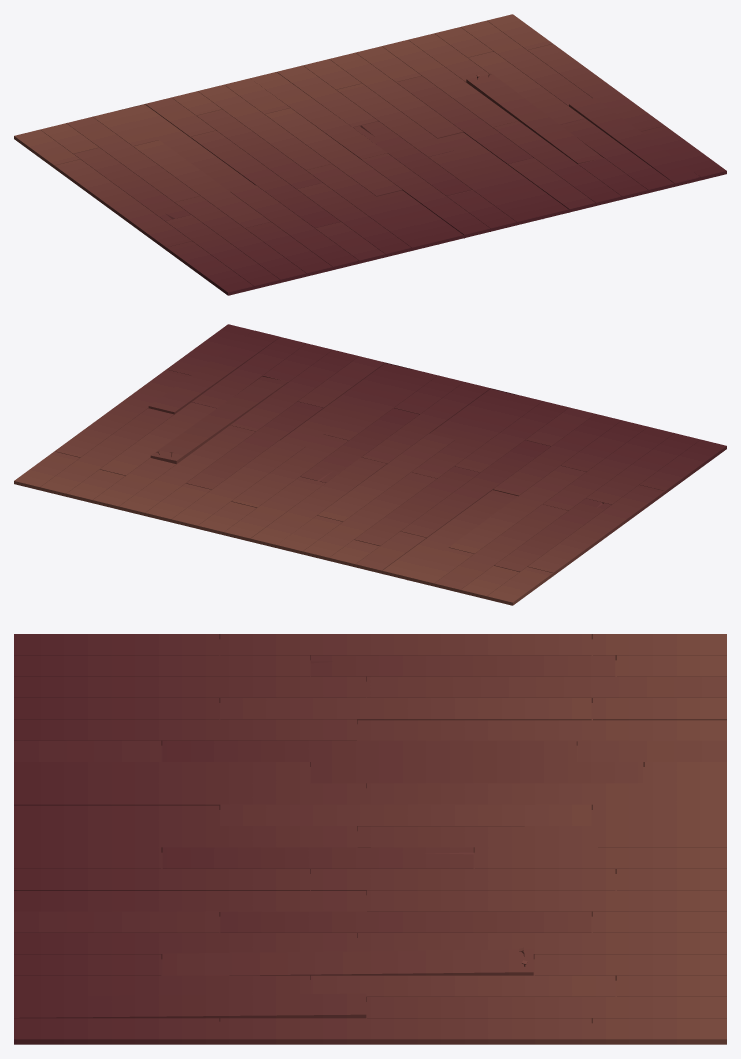
The model's file is Floor.fbx.
3 renders of one model, top to bottom at view 1: azimuth 30°, elevation 25°; view 2: azimuth 150°, elevation 25°; view 3: azimuth 270°, elevation 25°, orthographic. The views are drawn at different scales.
Visible parts, largest first — view 1: Floor_GEO_Adjusted; view 2: Floor_GEO_Adjusted; view 3: Floor_GEO_Adjusted.
Boxes of the visible parts, x1,y1,x2,y2 form: Floor_GEO_Adjusted: [14, 14, 726, 295]; Floor_GEO_Adjusted: [14, 324, 726, 605]; Floor_GEO_Adjusted: [14, 634, 726, 1044].
Bounding box in the file's own units: 390 × 8.5 × 290.
